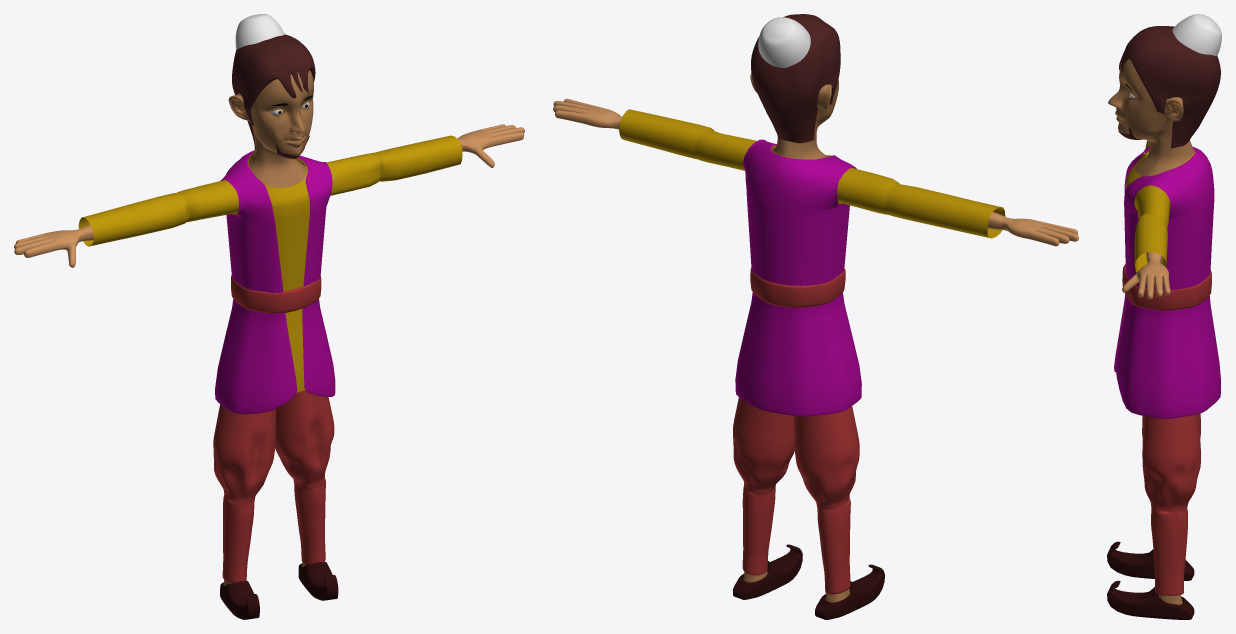
Rendered from infox_character_1_1.fbx.
The picture shows the model from 3 angles, left to right: view 1: azimuth 30°, elevation 25°; view 2: azimuth 150°, elevation 25°; view 3: azimuth 270°, elevation 25°; orthographic projection. The views are drawn at different scales.
Parts seen in each view (by area): view 1: polySurface40; view 2: polySurface40; view 3: polySurface40.
Part boxes in pixels (x1,y1,x2,y2): polySurface40: (14, 14, 524, 619); polySurface40: (553, 14, 1078, 619); polySurface40: (1107, 14, 1221, 619).
Bounding box in the file's own units: 35.1 × 37.57 × 6.77.
